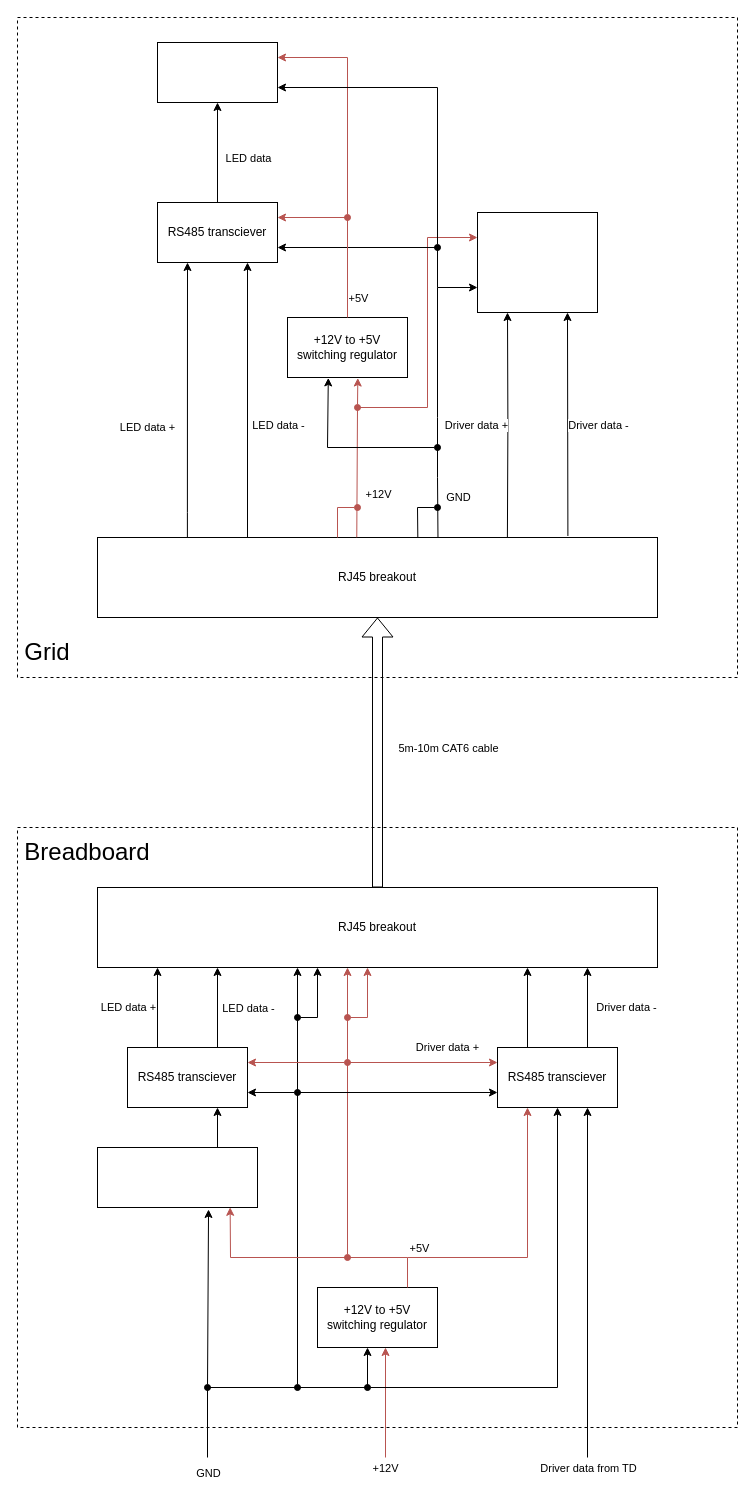
This 755x1497 diagram has some shape labels left out. The shapes that lost their labels are listed below. From the top down, each one's centre as x and y in pixels, then its label:
point 217,72: LED strips
point 537,262: Driver PCBs
point 177,1177: Arduino Nano
